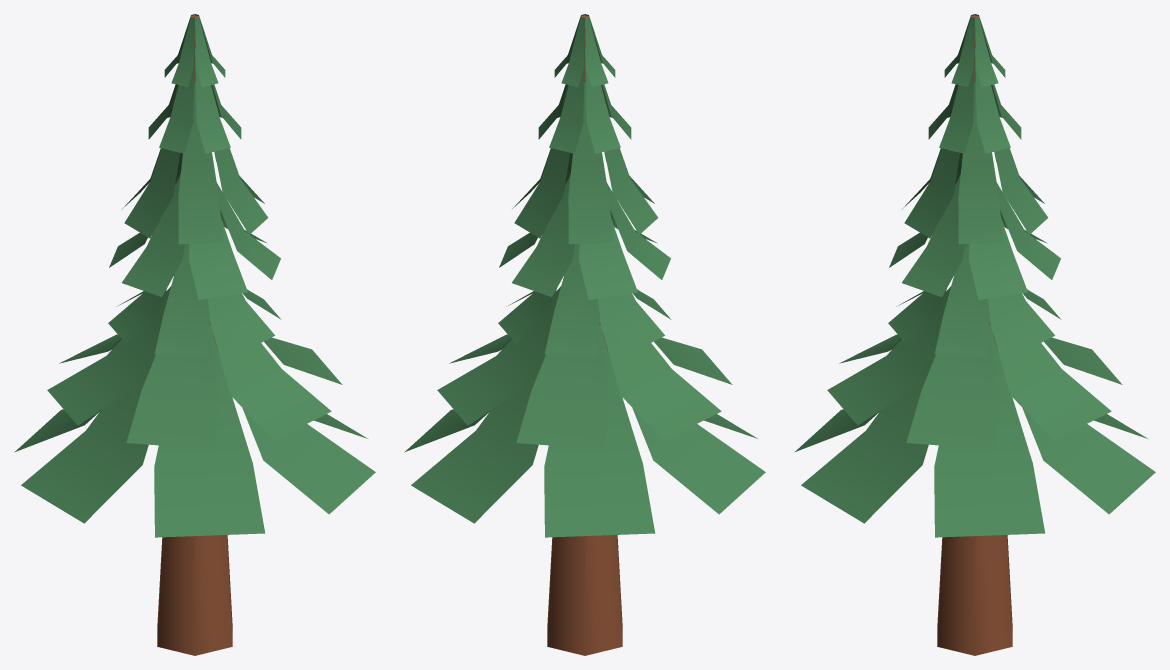
The model's file is cozy_lake_tree_dense_003.glb.
3 views of the same model, side by side, from view 1: azimuth 30°, elevation 25°; view 2: azimuth 150°, elevation 25°; view 3: azimuth 270°, elevation 25° (orthographic).
Visible parts, largest first — view 1: Tree_Dense_003; view 2: Tree_Dense_003; view 3: Tree_Dense_003.
Boxes of the visible parts, x1=… form: Tree_Dense_003: x1=14, y1=14, x2=375, y2=655; Tree_Dense_003: x1=404, y1=14, x2=765, y2=655; Tree_Dense_003: x1=794, y1=14, x2=1155, y2=655.
Bounding box in the file's own units: 56.94 × 110 × 57.88.
